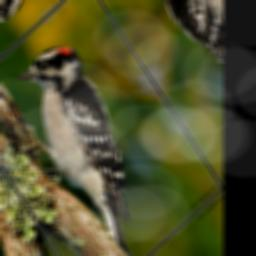Woodpecker: (0, 31, 185, 256)
